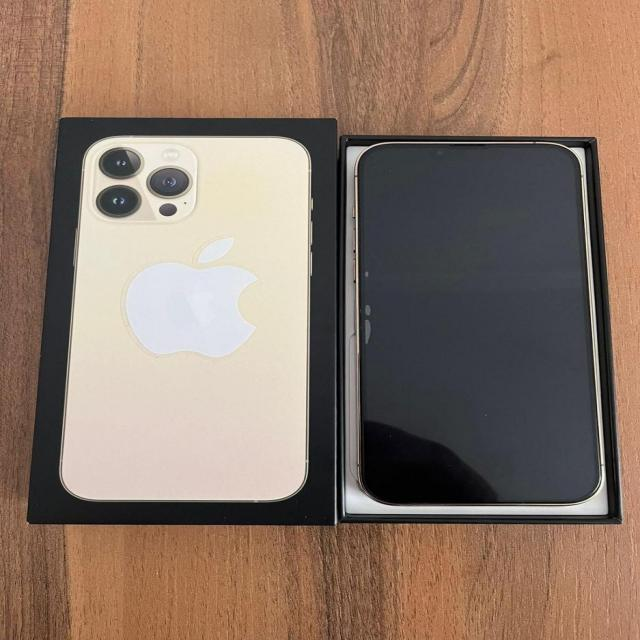phone good: (347, 128, 615, 510), (55, 131, 320, 515)
